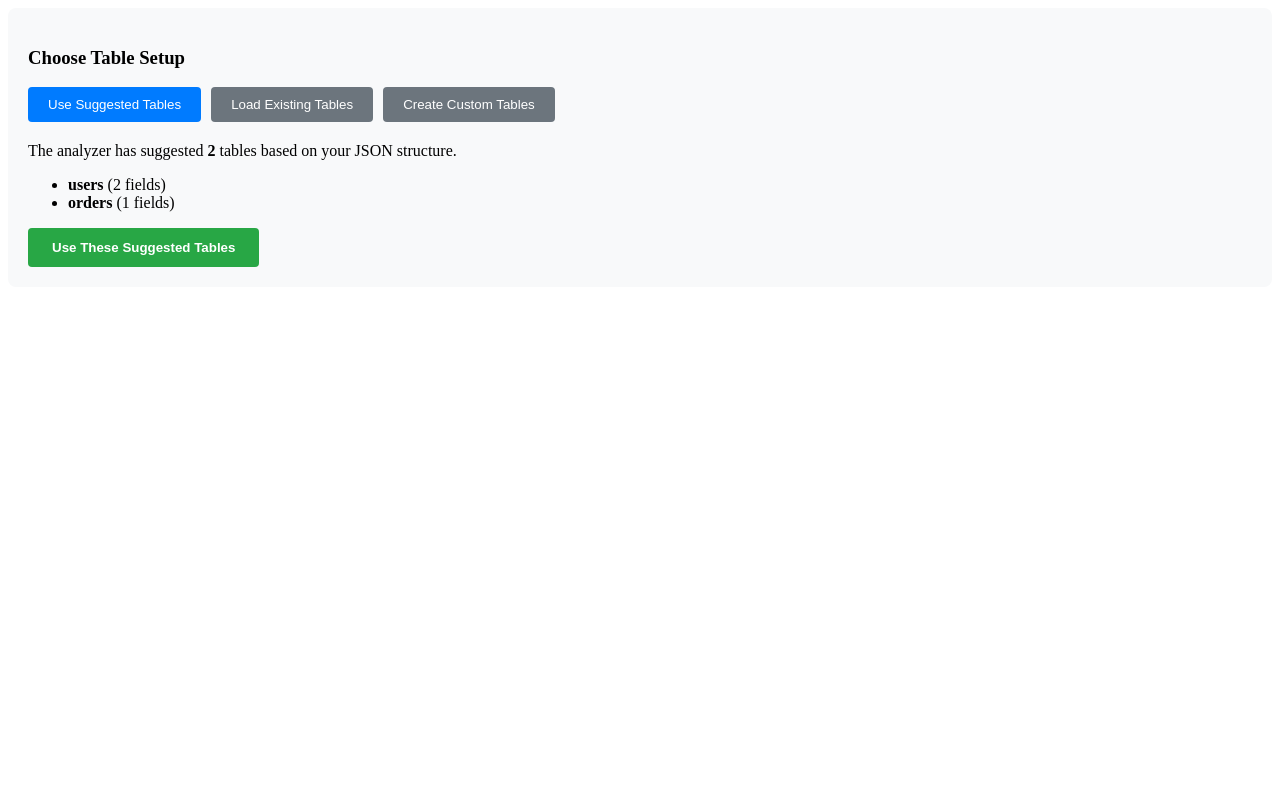
Test: TableSelector › should show mapping prompt when mappings found
Click the button "Load Existing Tables". click: click(292, 105)
box: [211,87,373,122]
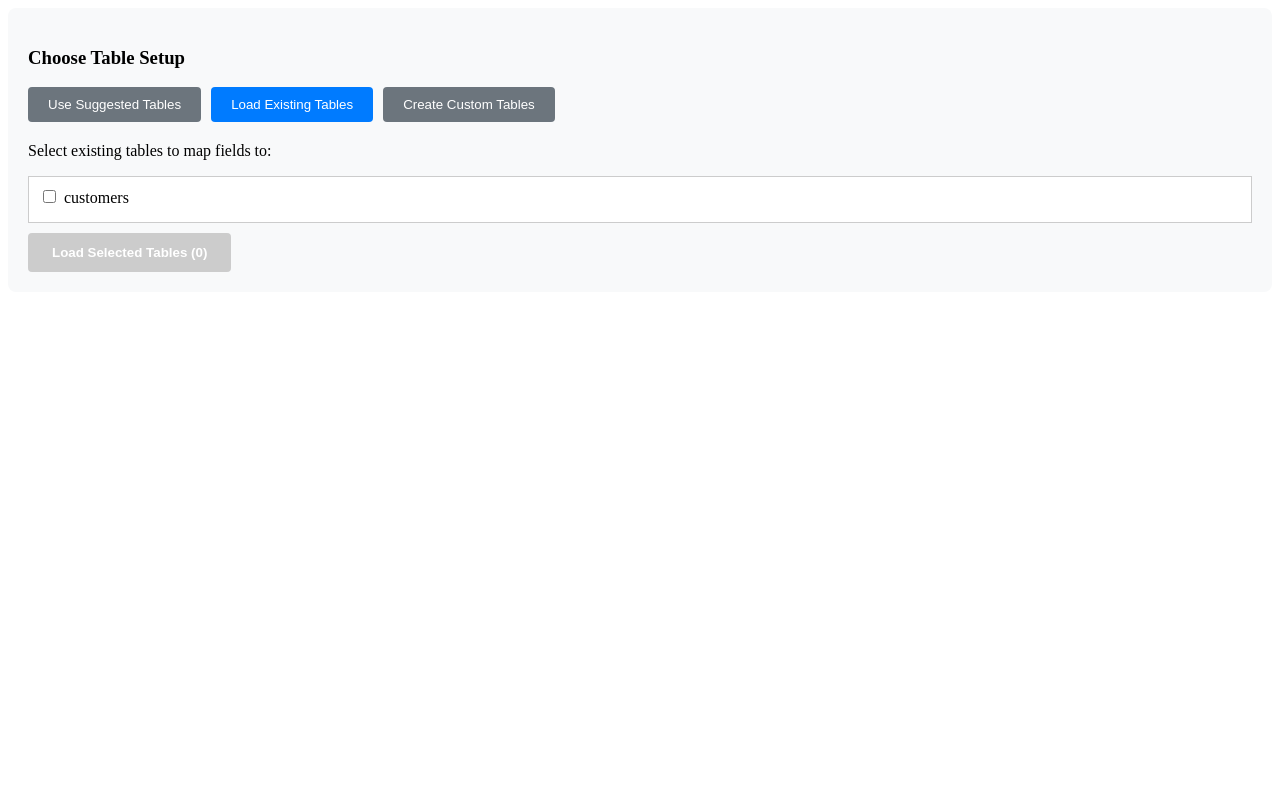
Click the checkbox. click: click(50, 197)
box: [43,190,56,203]
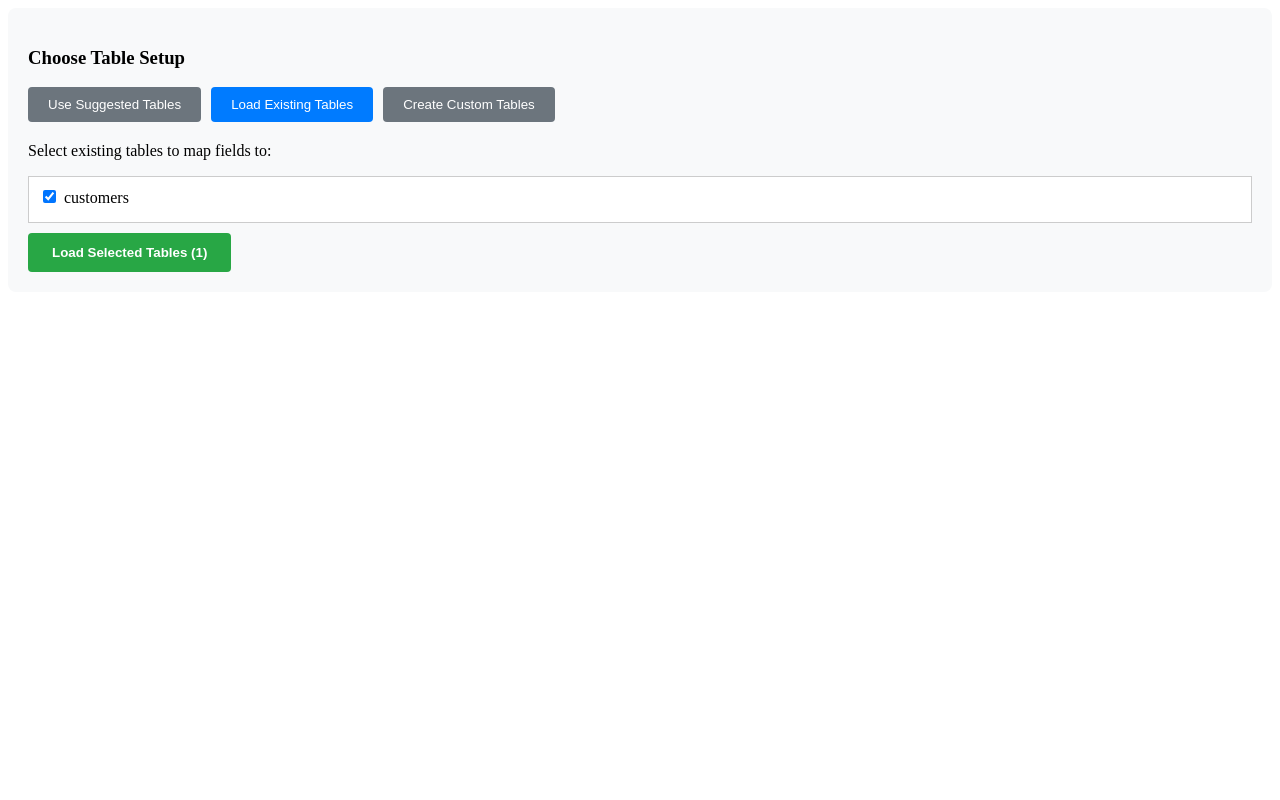
Click the button "Load Selected Tables (1)". click: click(130, 253)
box: [28,233,231,272]
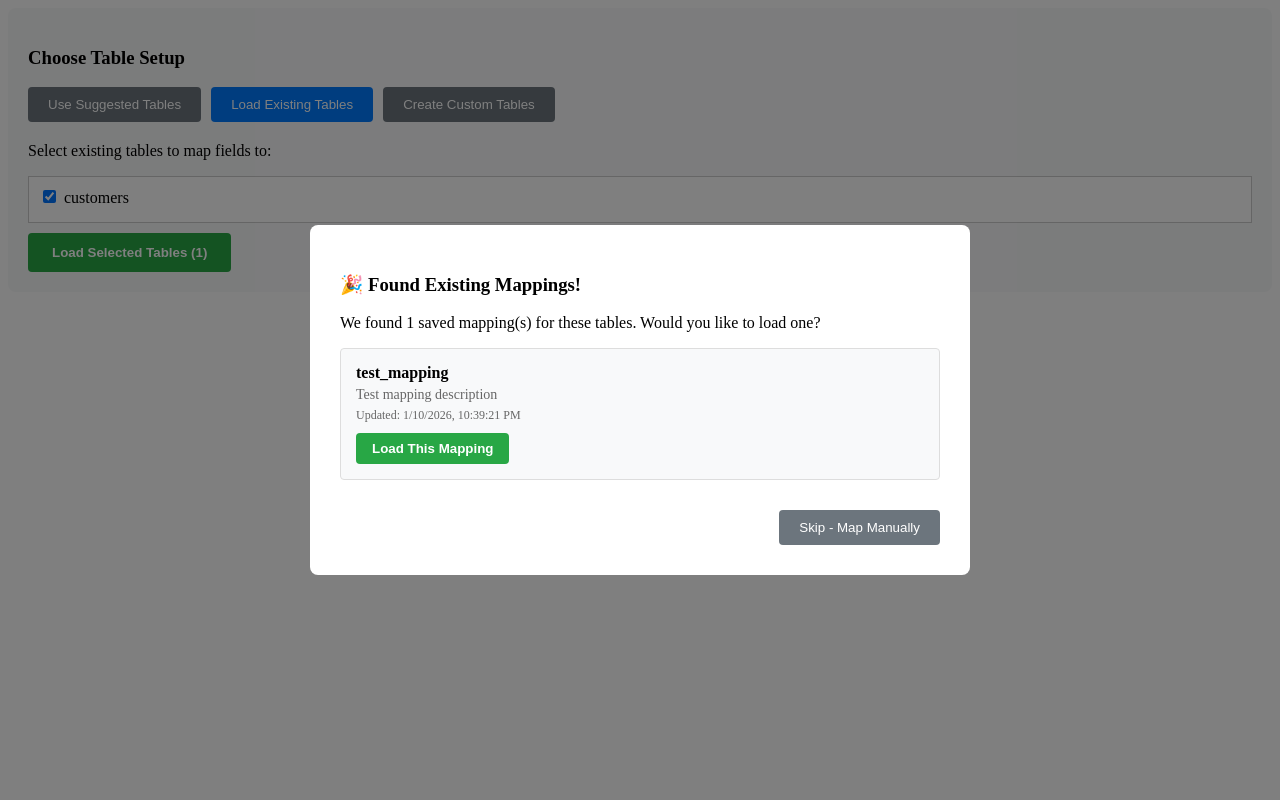
Result: the heading "🎉 Found Existing Mappings!" is shown at [340,274,581,294]
Result: the text "test_mapping" is shown at [356,364,448,381]
Result: the text "Test mapping description" is shown at [356,387,497,402]
